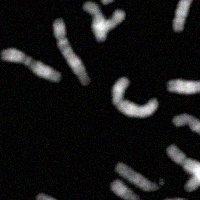chromosome: (52, 16, 89, 85), (111, 74, 159, 117), (2, 48, 62, 82), (114, 160, 164, 191), (166, 145, 200, 187), (184, 123, 200, 190), (110, 180, 159, 200), (83, 1, 105, 41), (172, 0, 200, 31), (91, 9, 126, 32), (172, 112, 200, 135), (36, 192, 110, 200), (167, 77, 200, 94), (16, 0, 114, 4), (124, 198, 194, 200)
